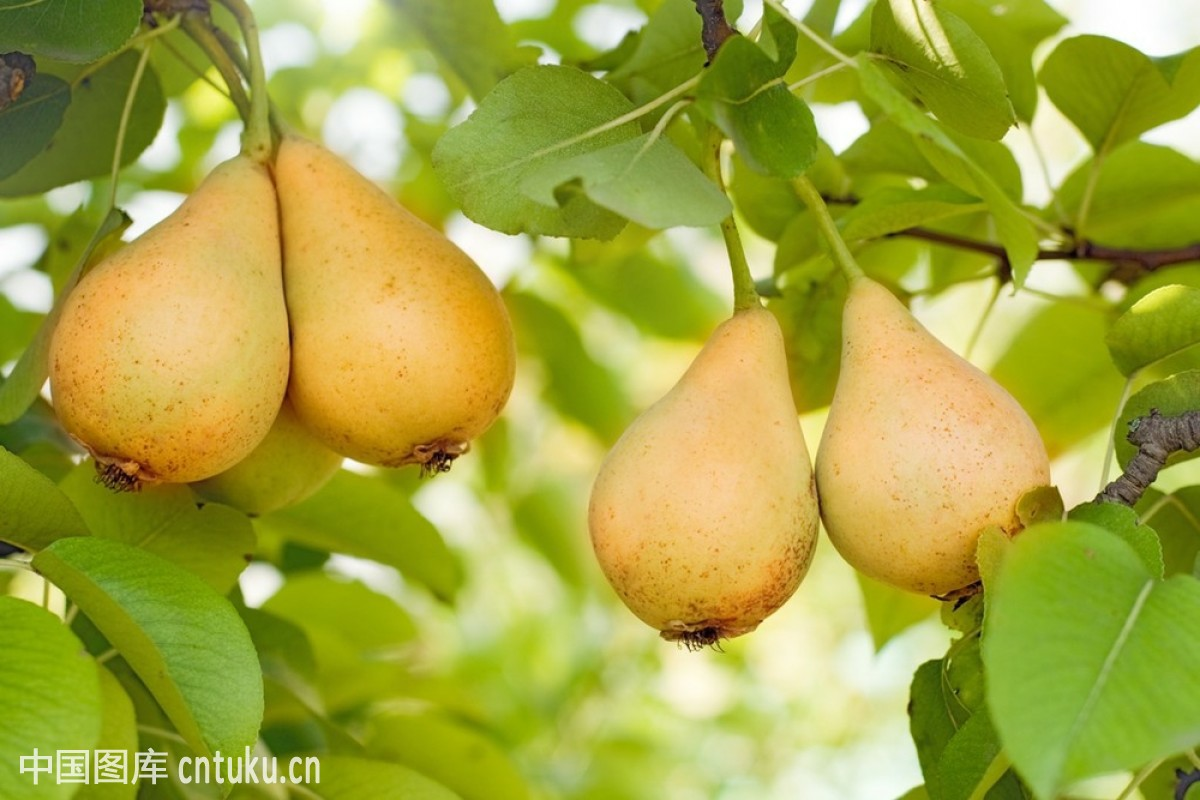pear: (264, 132, 516, 469), (584, 304, 821, 653), (49, 150, 295, 477), (816, 273, 1054, 595)
